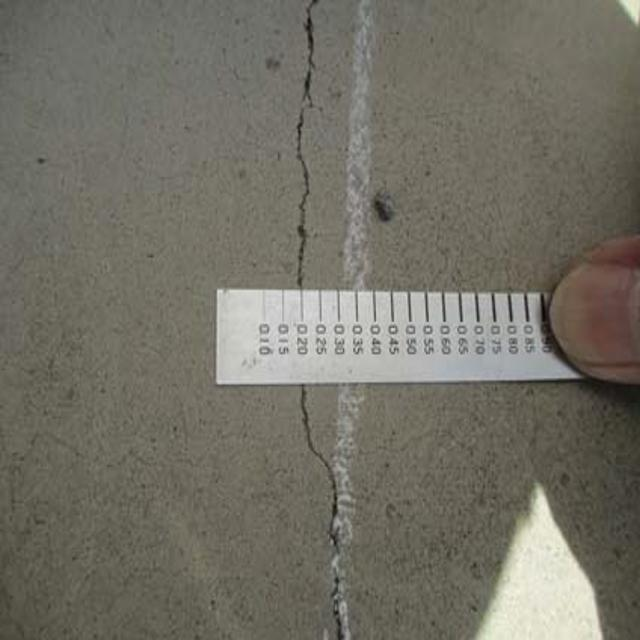crack: (284, 391, 363, 640), (276, 7, 337, 284)
